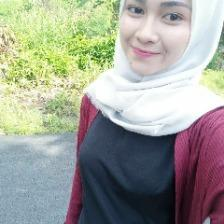Non Syar-i: (84, 0, 224, 139)
